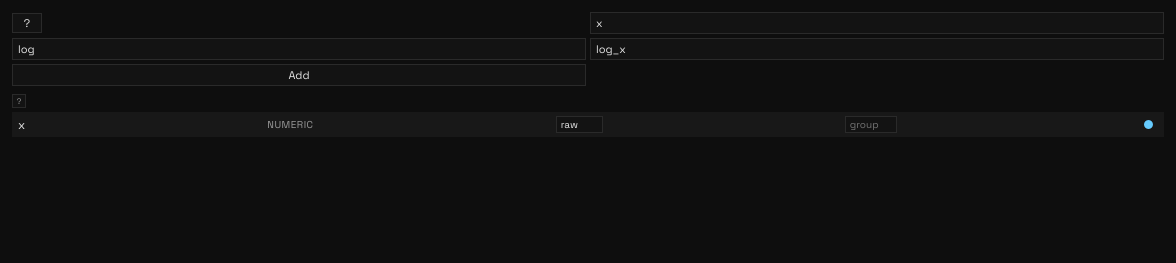
Scenario: VariablePanel › creates derived transform variables from numeric columns
Expected: the field named "derived column name" holds "log_x", [590,38,1164,60]
Click the button with aria-label "add derived variable".
click(299, 75)  # box [12,64,586,86]
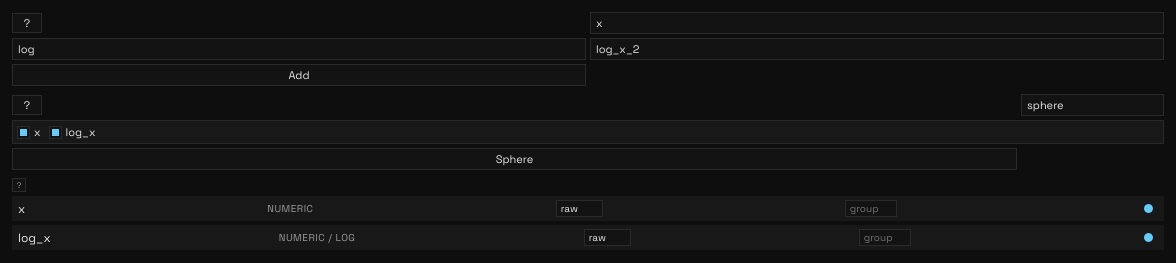
Expected: the text "log_x" in the row of "numeric / log" is shown, [18,230,51,246]
